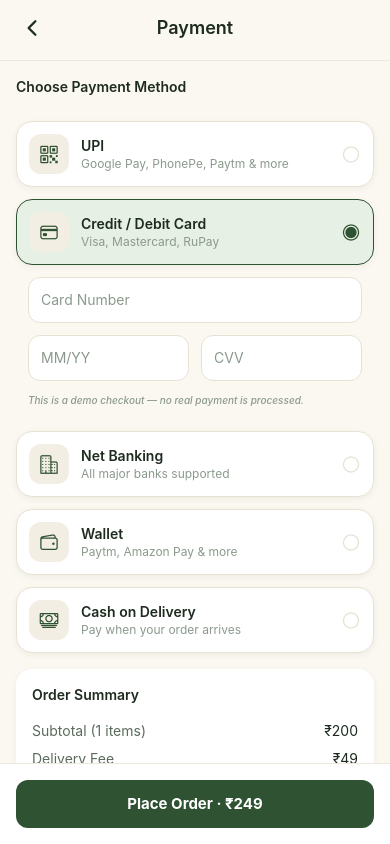
Test: CheckoutPaymentScreen › card payment validation › blocks the order and shows a card-expired error for a past expiry date
This screenshot has width=390, height=844.
Step 1. Type "4111111111111111" into the field with placeholder "Card Number" → (195, 300), box [28, 277, 362, 323]
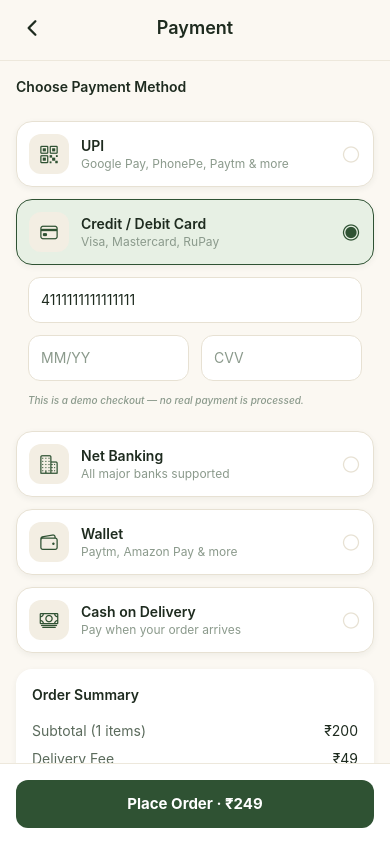
Step 2. Type "01/20" into the field with placeholder "MM/YY" → (108, 358), box [28, 335, 189, 381]
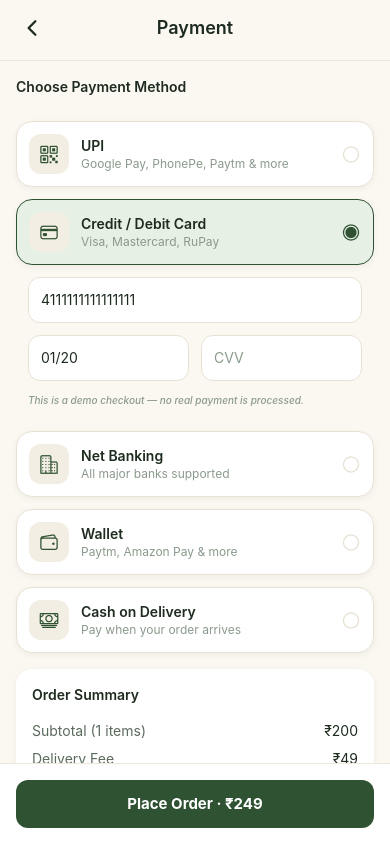
Step 3. Type "123" into the password field with placeholder "CVV" → (282, 358), box [201, 335, 362, 381]
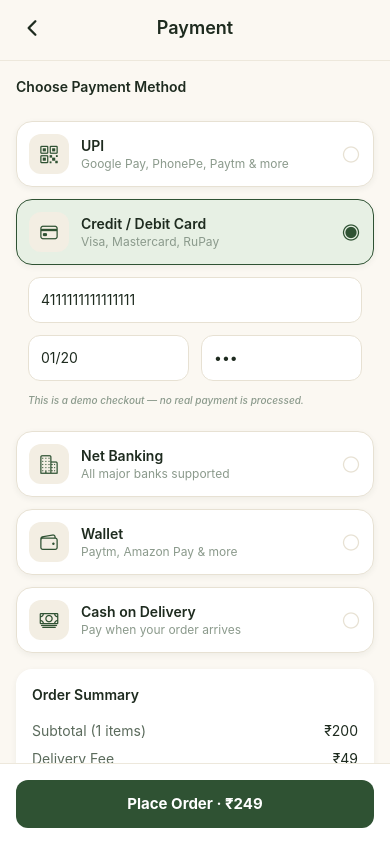
Step 4. Click the button "Place Order · ₹249" → (195, 804), box [16, 780, 374, 828]
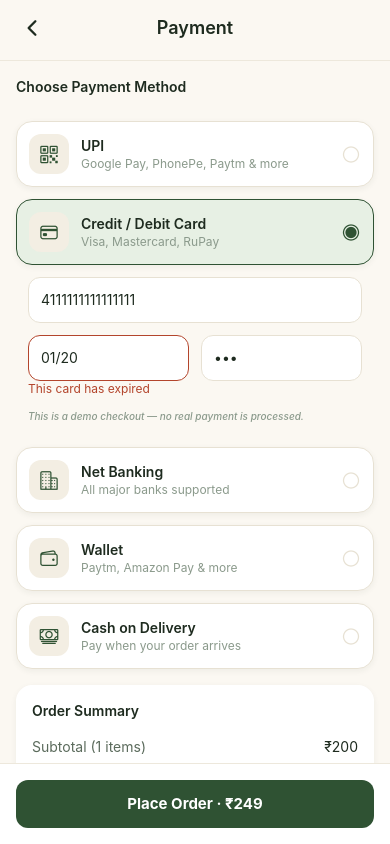
Check: the text "This card has expired" is shown, box [28, 381, 150, 396]
